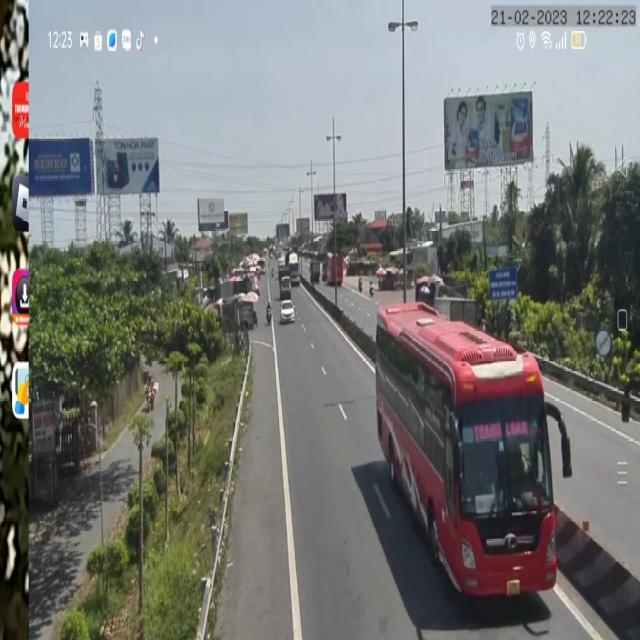bus: (370, 295, 552, 609), (325, 249, 344, 286)
car: (278, 302, 296, 322)
motorbike: (145, 372, 155, 410), (266, 297, 271, 324)
truck: (287, 251, 300, 288), (279, 266, 291, 299)
